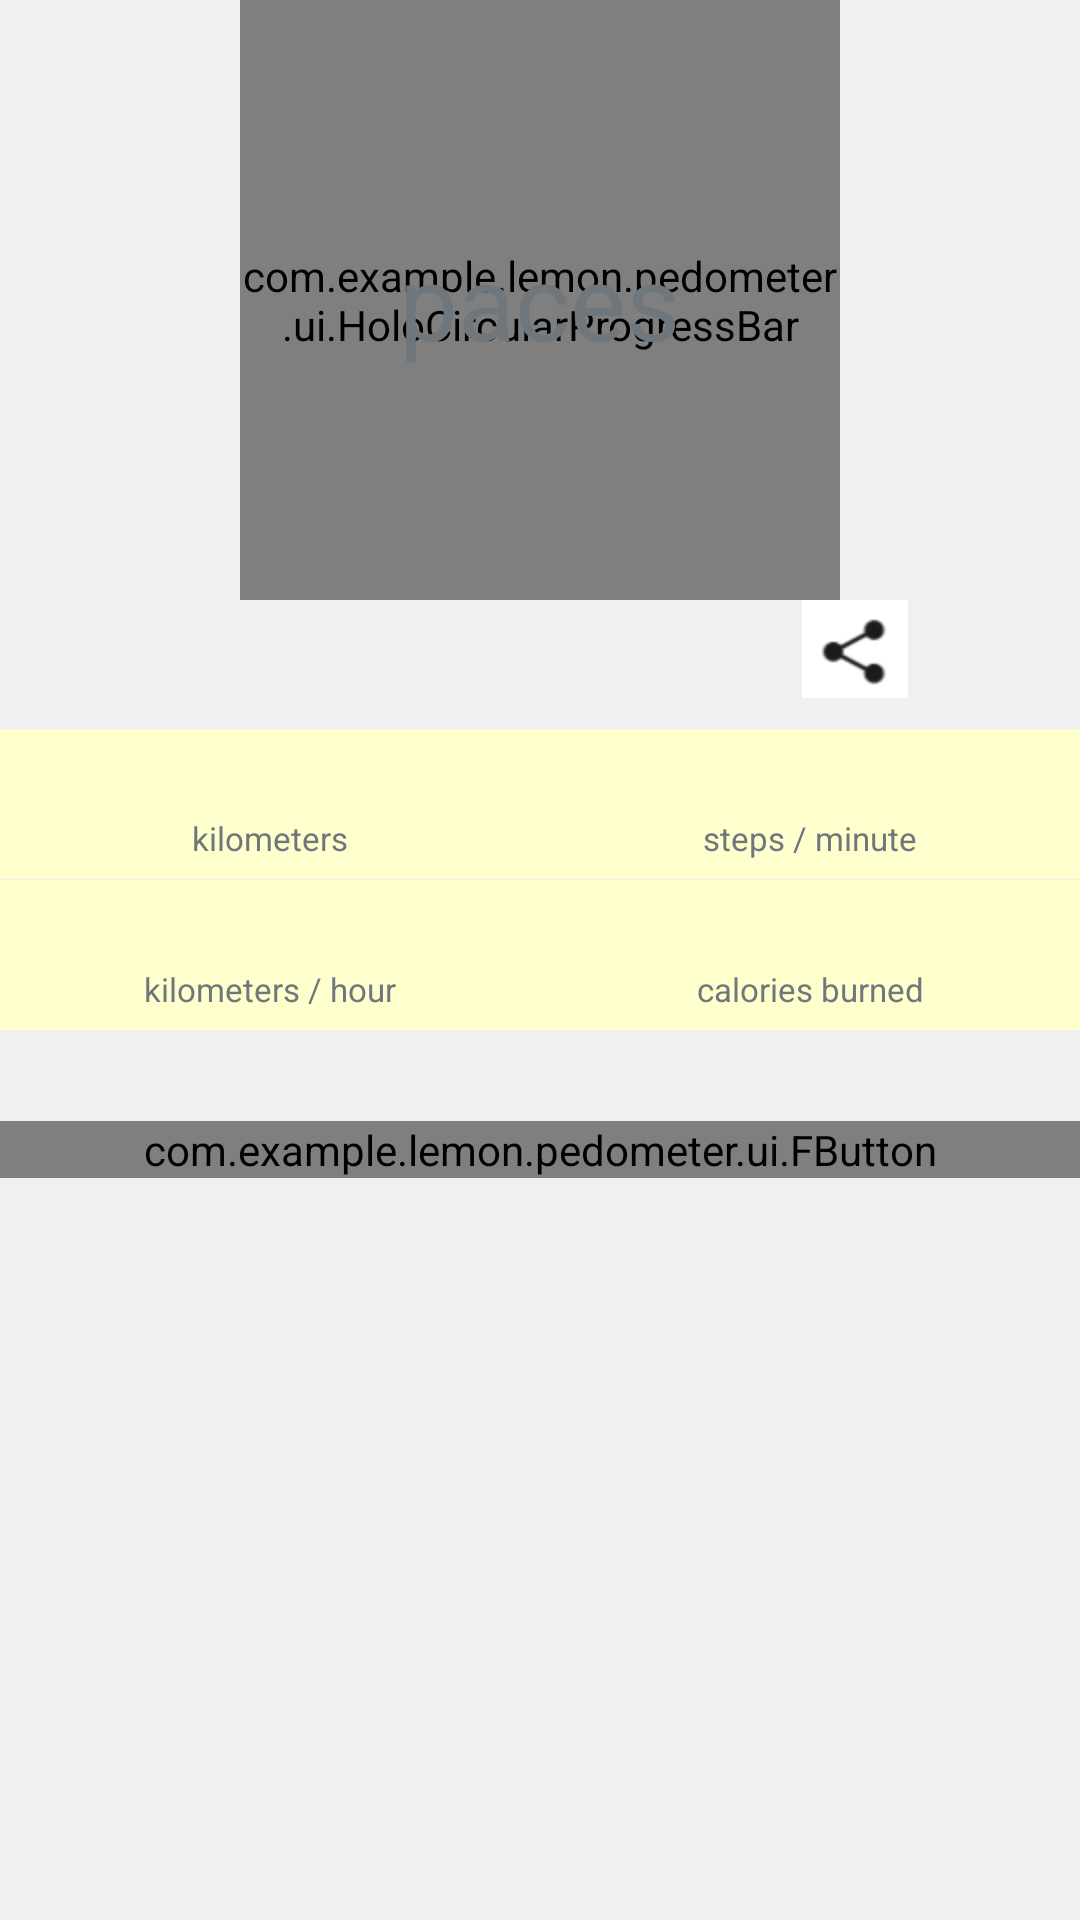

Icons on this 1080w x 1920h Android screen, each with its box as (x1, y1, x2, y2):
share: (802, 600, 908, 698)
